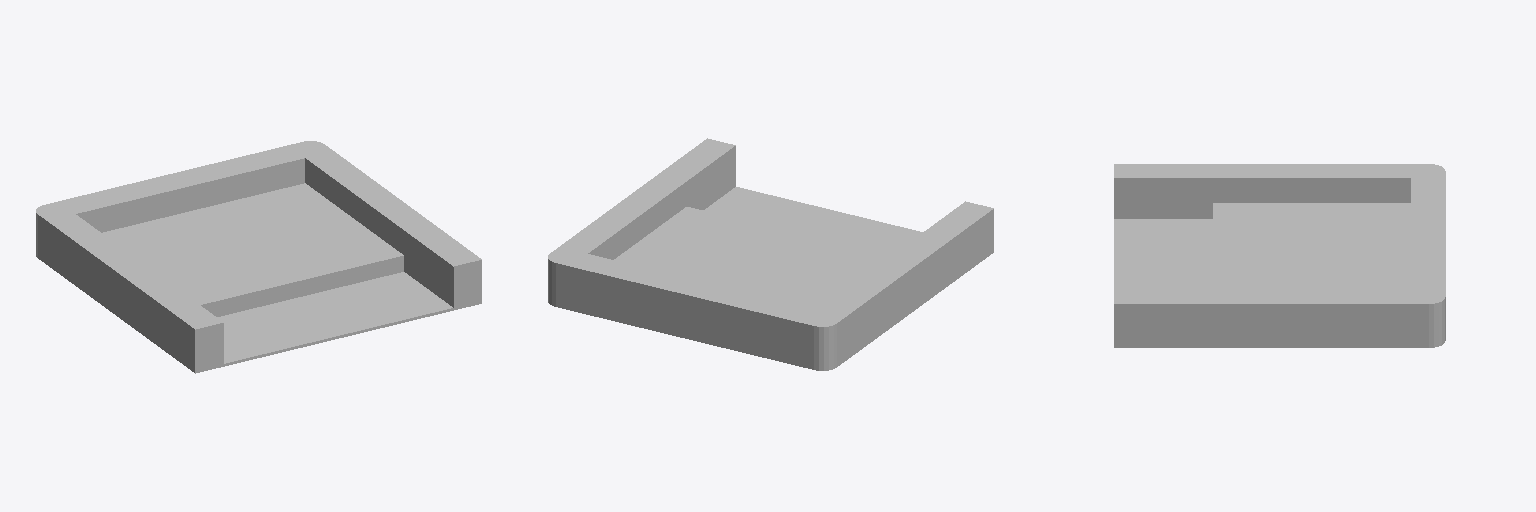
Rendered from waterStart.obj.
3 renders of one model, left to right at view 1: azimuth 30°, elevation 25°; view 2: azimuth 150°, elevation 25°; view 3: azimuth 270°, elevation 25°, orthographic.
Visible parts, largest first — view 1: start2 group1; view 2: start2 group1; view 3: start2 group1.
Boxes of the visible parts, x1,y1,x2,y2 form: start2 group1: [36, 141, 481, 373]; start2 group1: [548, 138, 993, 370]; start2 group1: [1114, 164, 1445, 347].
Size of the model in its own units: 3 by 0.44 by 3.